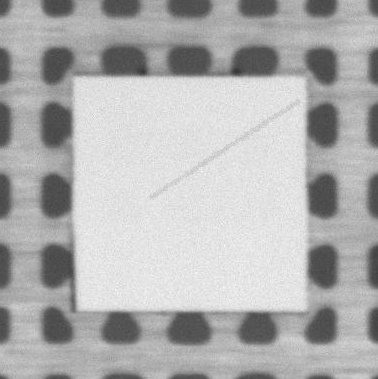DIE_CRACK: (150, 102, 297, 199)
